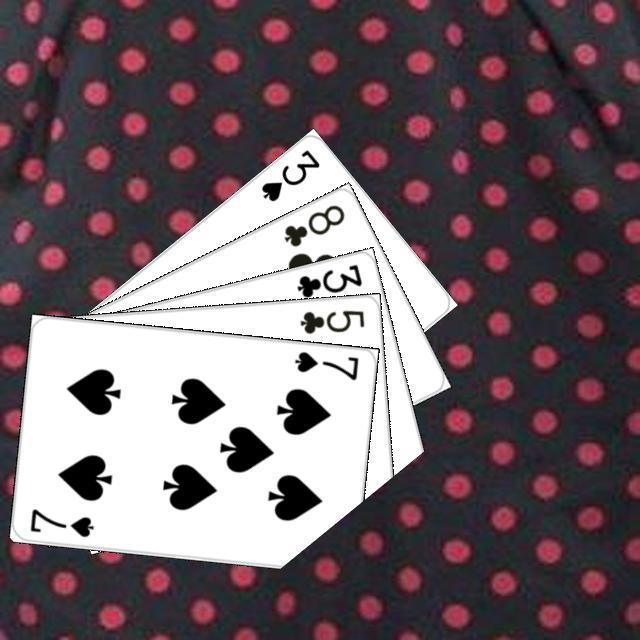3c: (291, 259, 364, 300)
3s: (256, 144, 322, 204)
5c: (295, 305, 366, 336)
7s: (289, 346, 360, 382), (25, 503, 96, 539)
8c: (279, 199, 347, 249)
